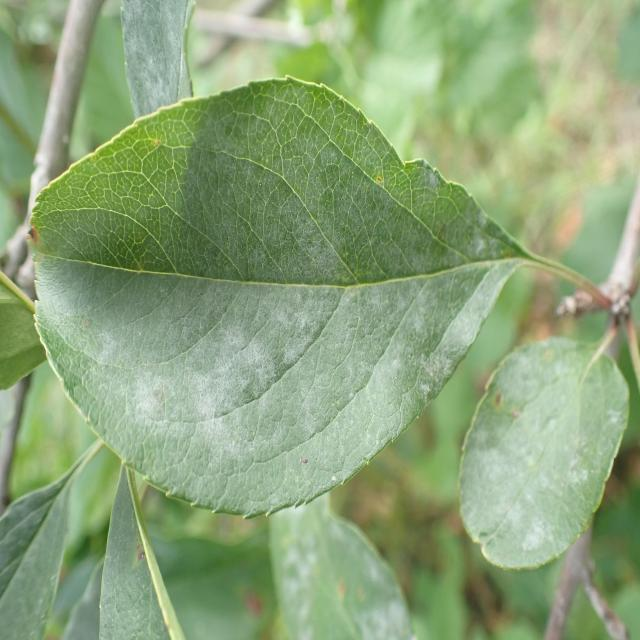Powdery_mildew: (31, 87, 524, 508), (451, 311, 619, 581), (252, 479, 422, 640), (75, 448, 195, 640), (114, 3, 206, 125)
